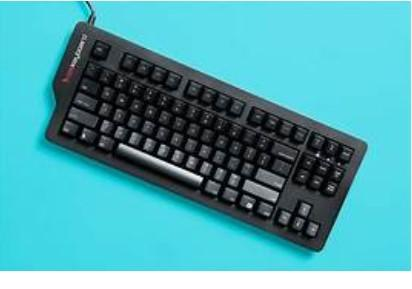Keyboard: (43, 21, 368, 253)
